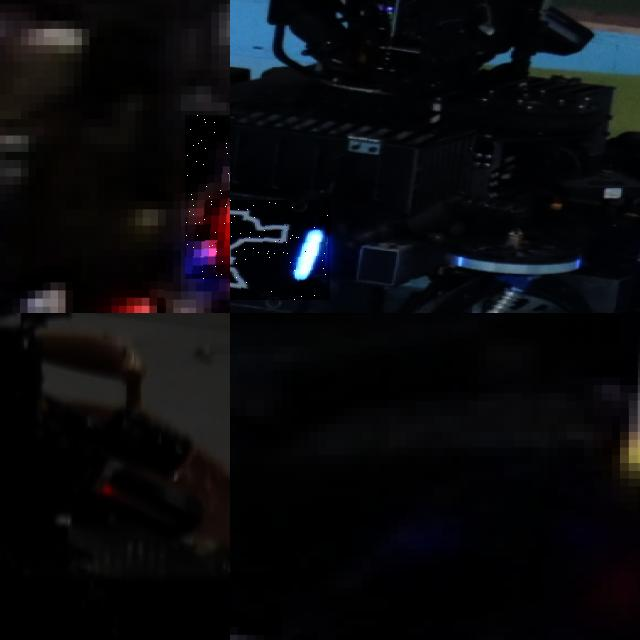Bs: (230, 199, 329, 300)
R1: (0, 250, 165, 313), (184, 115, 230, 279)
